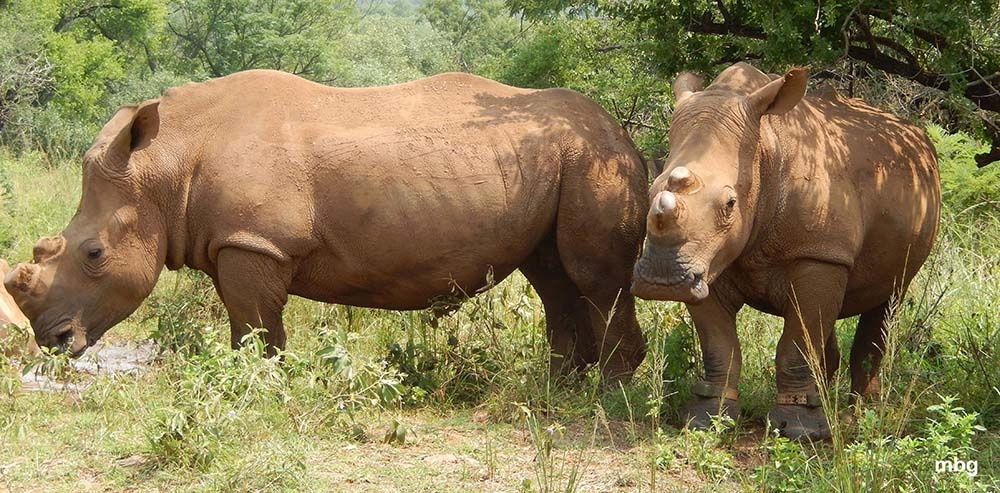rhino: (4, 66, 650, 391), (628, 59, 947, 414)
